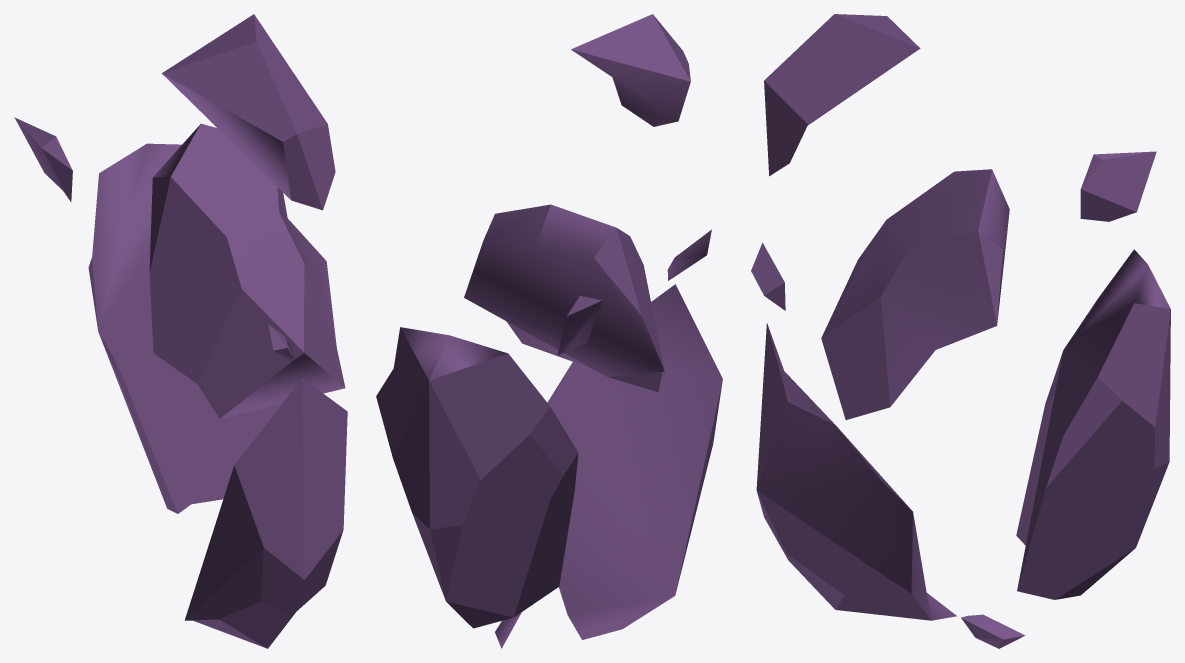
The model's file is CrystalBroken.fbx.
3 renders of one model, left to right at view 1: azimuth 30°, elevation 25°; view 2: azimuth 150°, elevation 25°; view 3: azimuth 270°, elevation 25°, orthographic. The views are drawn at different scales.
Visible parts, largest first — view 1: magic stone.006, magic stone.008, magic stone.007, magic stone.005, magic stone.004; view 2: magic stone.007, magic stone.008, magic stone.006, magic stone.005, magic stone.004, magic stone.002; view 3: magic stone.007, magic stone.006, magic stone.008, magic stone.005, magic stone.004, magic stone.002, magic stone.003.
Part boxes in pixels (x1,y1,x2,y2): magic stone.006: (149, 123, 345, 418); magic stone.008: (184, 378, 347, 648); magic stone.007: (88, 143, 281, 513); magic stone.005: (162, 14, 335, 210); magic stone.004: (14, 117, 72, 202); magic stone.007: (376, 327, 578, 628); magic stone.008: (547, 284, 722, 639); magic stone.006: (464, 204, 664, 392); magic stone.005: (571, 14, 690, 126); magic stone.004: (557, 296, 602, 354); magic stone.002: (667, 229, 711, 280); magic stone.007: (1016, 249, 1170, 599); magic stone.006: (821, 169, 1009, 419); magic stone.008: (756, 323, 956, 620); magic stone.005: (764, 14, 920, 176); magic stone.004: (1080, 151, 1156, 221); magic stone.002: (751, 242, 785, 310); magic stone.003: (961, 614, 1025, 648).
Size of the model in its own units: 159 by 407 by 258.
